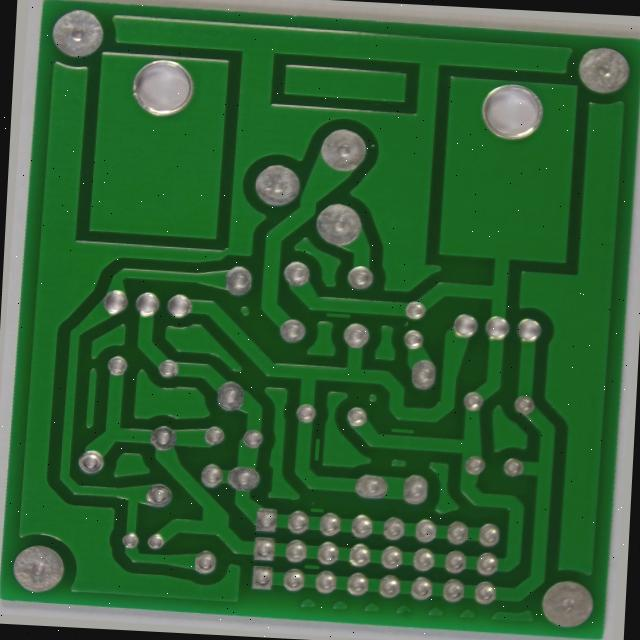spurious_copper: (307, 435, 328, 467), (389, 423, 424, 438), (322, 306, 352, 323), (303, 561, 327, 579), (307, 504, 331, 521)
